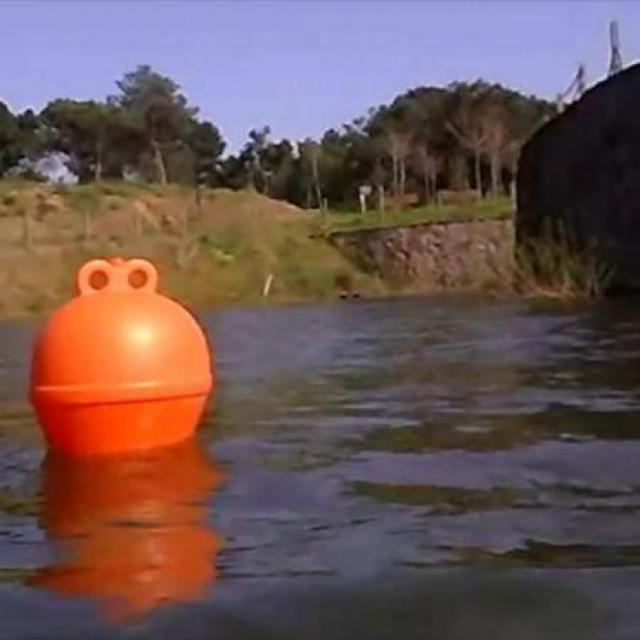buoy: (30, 261, 208, 454)
